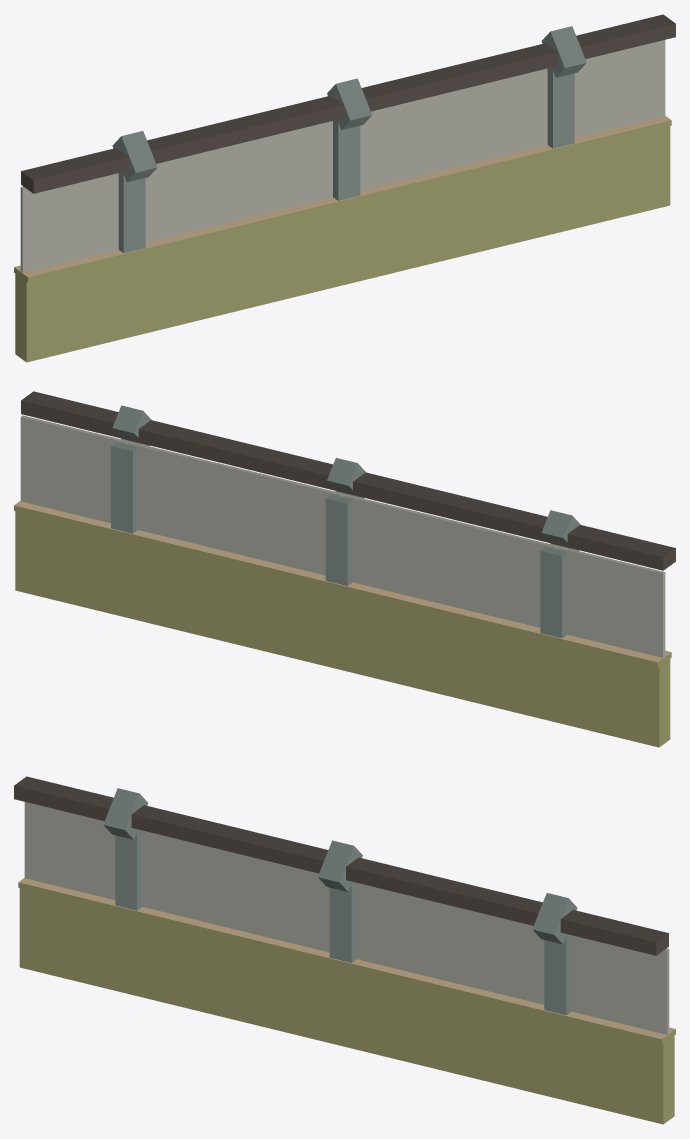
File: SM_VallaBetera_MuroBajo_e0_Sana_LOD1.fbx
3 views of the same model, one above another, from view 1: azimuth 30°, elevation 25°; view 2: azimuth 150°, elevation 25°; view 3: azimuth 330°, elevation 25° (orthographic).
Visible parts, largest first — view 1: SM_valla_estados_v5_LOD1; view 2: SM_valla_estados_v5_LOD1; view 3: SM_valla_estados_v5_LOD1.
Boxes of the visible parts, box(x1,y1,x2,y2) form: SM_valla_estados_v5_LOD1: box(14, 14, 675, 362); SM_valla_estados_v5_LOD1: box(14, 391, 675, 747); SM_valla_estados_v5_LOD1: box(14, 776, 675, 1124).
Bounding box in the file's own units: 10 × 2.99 × 0.6847.
